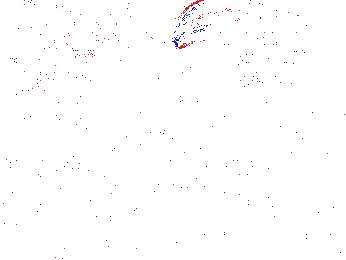moon jellyfish: (230, 4, 306, 79), (1, 6, 53, 99), (174, 1, 267, 53)
